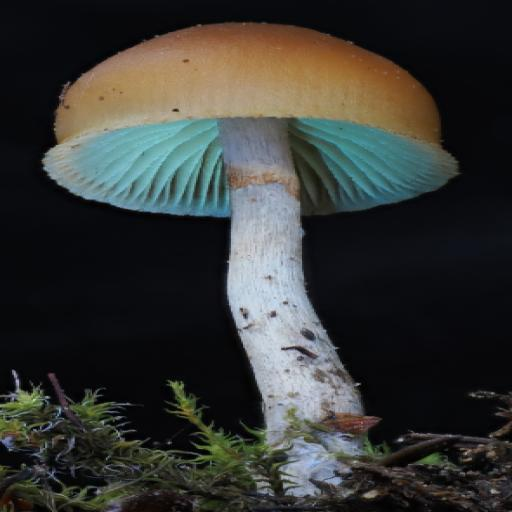mushroom: (35, 14, 470, 360)
